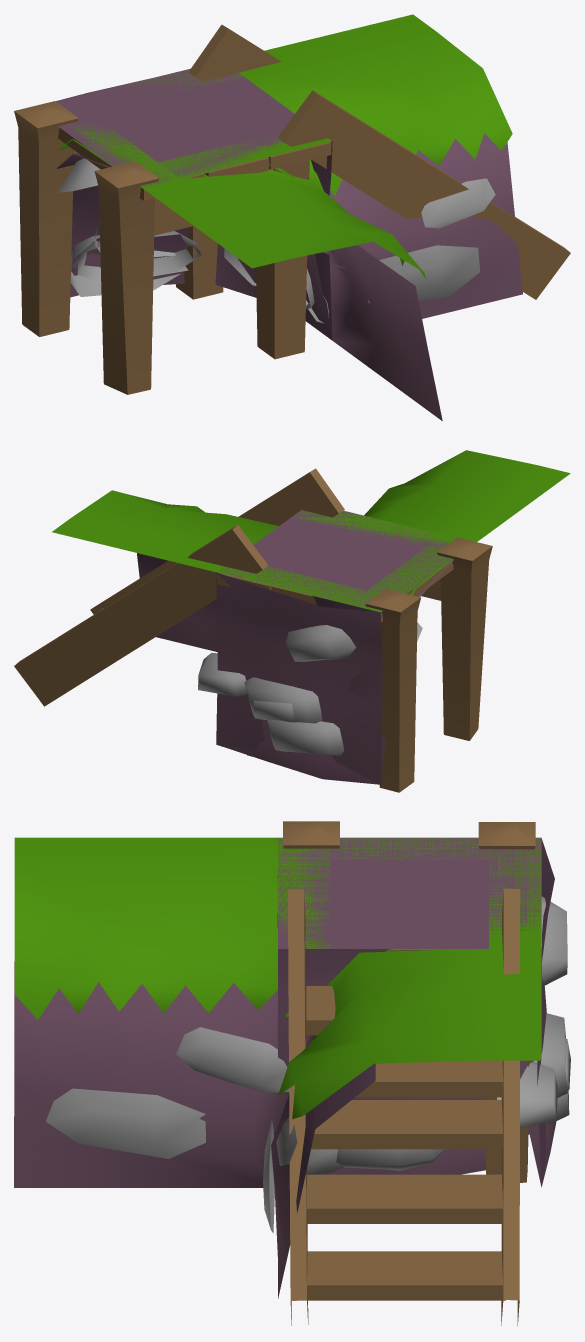
The model's file is forest_02_pieces.glb.
The picture shows the model from 3 angles, top to bottom: view 1: azimuth 30°, elevation 25°; view 2: azimuth 150°, elevation 25°; view 3: azimuth 270°, elevation 25°; orthographic projection. The views are drawn at different scales.
Visible parts, largest first — view 1: forest_02_ledges_corner_inner, forest_02_ledges_ladder, creekbed_top, forest_02_ledges_corner_outer, forest_02_ledges_straight, forest_02_ledges_corner_outer_cliff, creekbed_single; view 2: forest_02_ledges_ladder, forest_02_ledges_corner_inner, forest_02_ledges_straight_cliff, creekbed_top, forest_02_ledges_straight, creekbed_single, forest_02_ledges_corner_outer_cliff; view 3: forest_02_ledges_corner_inner, forest_02_ledges_ladder, creekbed_top, forest_02_ledges_straight, forest_02_ledges_corner_outer_cliff, forest_02_ledges_corner_outer, forest_02_ledges_straight_cliff, creekbed_single.
Boxes of the visible parts, x1,y1,x2,y2 form: forest_02_ledges_corner_inner: (65, 14, 522, 420); forest_02_ledges_ladder: (14, 24, 570, 394); creekbed_top: (56, 68, 294, 185); forest_02_ledges_corner_outer: (57, 140, 332, 339); forest_02_ledges_straight: (57, 136, 332, 296); forest_02_ledges_corner_outer_cliff: (72, 141, 332, 340); creekbed_single: (57, 134, 285, 257); forest_02_ledges_ladder: (14, 468, 492, 792); forest_02_ledges_corner_inner: (52, 450, 570, 651); forest_02_ledges_straight_cliff: (216, 572, 382, 784); creekbed_top: (218, 510, 453, 611); forest_02_ledges_straight: (198, 510, 455, 784); creekbed_single: (244, 517, 453, 781); forest_02_ledges_corner_outer_cliff: (312, 595, 382, 705); forest_02_ledges_corner_inner: (14, 837, 541, 1298); forest_02_ledges_ladder: (277, 821, 535, 1326); creekbed_top: (278, 837, 541, 948); forest_02_ledges_straight: (278, 837, 569, 1187); forest_02_ledges_corner_outer_cliff: (278, 949, 484, 1174); forest_02_ledges_corner_outer: (306, 848, 485, 1174); forest_02_ledges_straight_cliff: (537, 839, 570, 1185); creekbed_single: (278, 853, 567, 1097).
Size of the model in its own units: 2.39 by 1.3 by 2.11.
